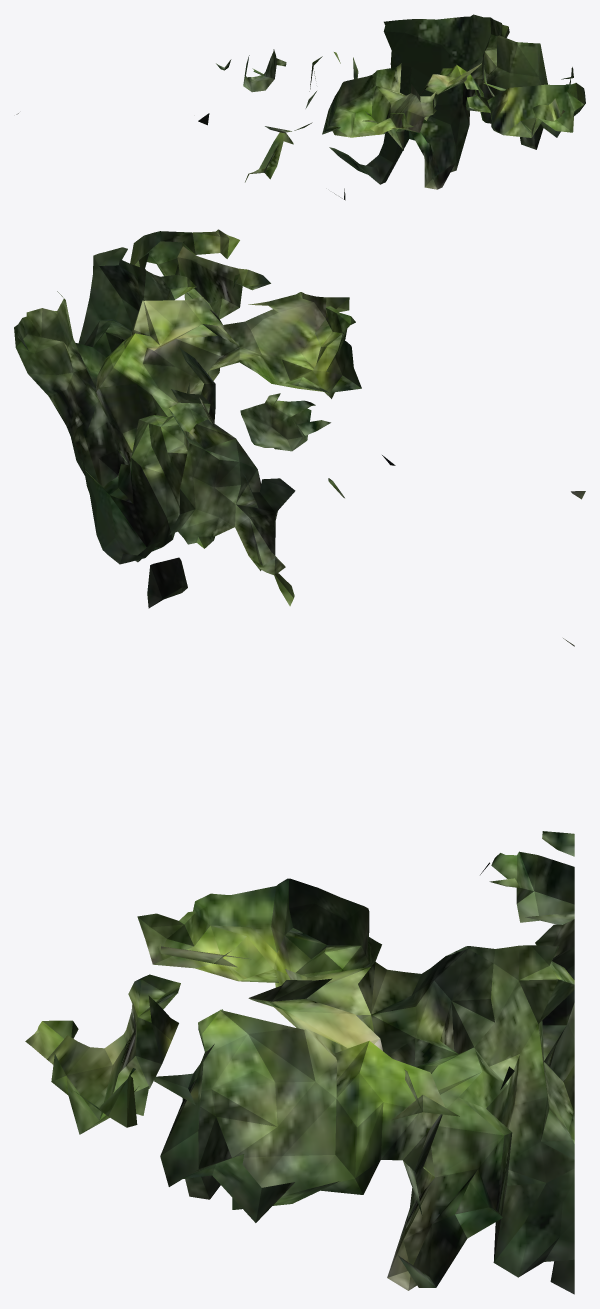
The picture shows the model from 3 angles, top to bottom: view 1: azimuth 30°, elevation 25°; view 2: azimuth 150°, elevation 25°; view 3: azimuth 270°, elevation 25°; orthographic projection. The views are drawn at different scales.
Size of the model in its own units: 26.11 by 9 by 13.37.
Materials: 2 (2 with a texture image).
